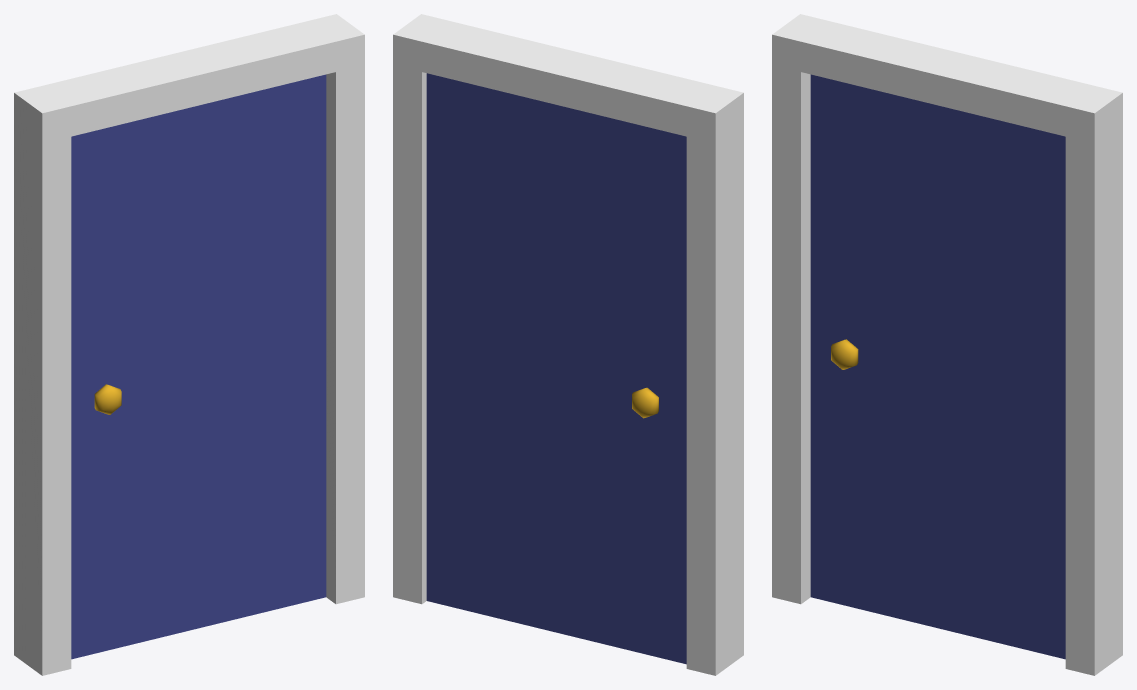
Rendered from door.glb.
3 views of the same model, side by side, from view 1: azimuth 30°, elevation 25°; view 2: azimuth 150°, elevation 25°; view 3: azimuth 330°, elevation 25° (orthographic).
Parts seen in each view (by area): view 1: door, door_frame; view 2: door, door_frame; view 3: door, door_frame.
Part boxes in pixels (x1,y1,x2,y2): door: (71, 74, 326, 659); door_frame: (14, 14, 364, 675); door: (426, 73, 686, 664); door_frame: (393, 14, 743, 675); door: (810, 74, 1065, 659); door_frame: (772, 14, 1122, 675).
Bounding box in the file's own units: 1.32 × 2.2 × 0.2616.
